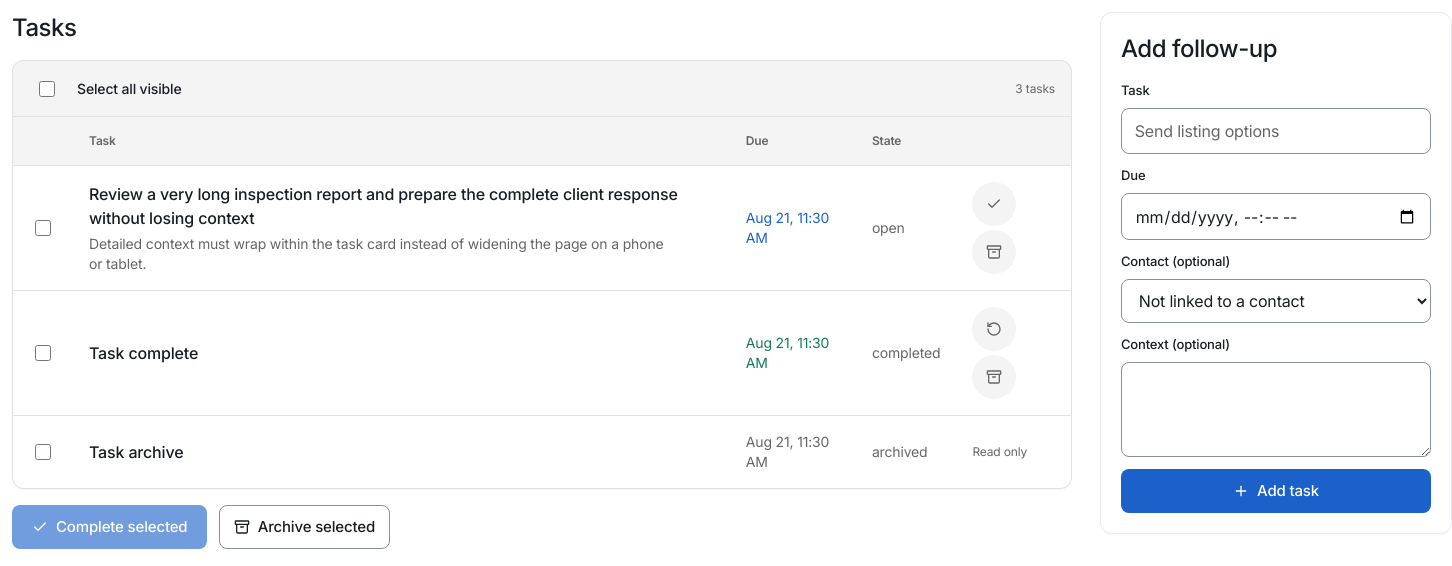
Test: ActivityWorkspace responsive task authority › keeps selection canonical and exposes a 44px checkbox hit-area contract
Click the checkbox named "Select Review a very long inspection": (43, 228) [35,220,51,236]
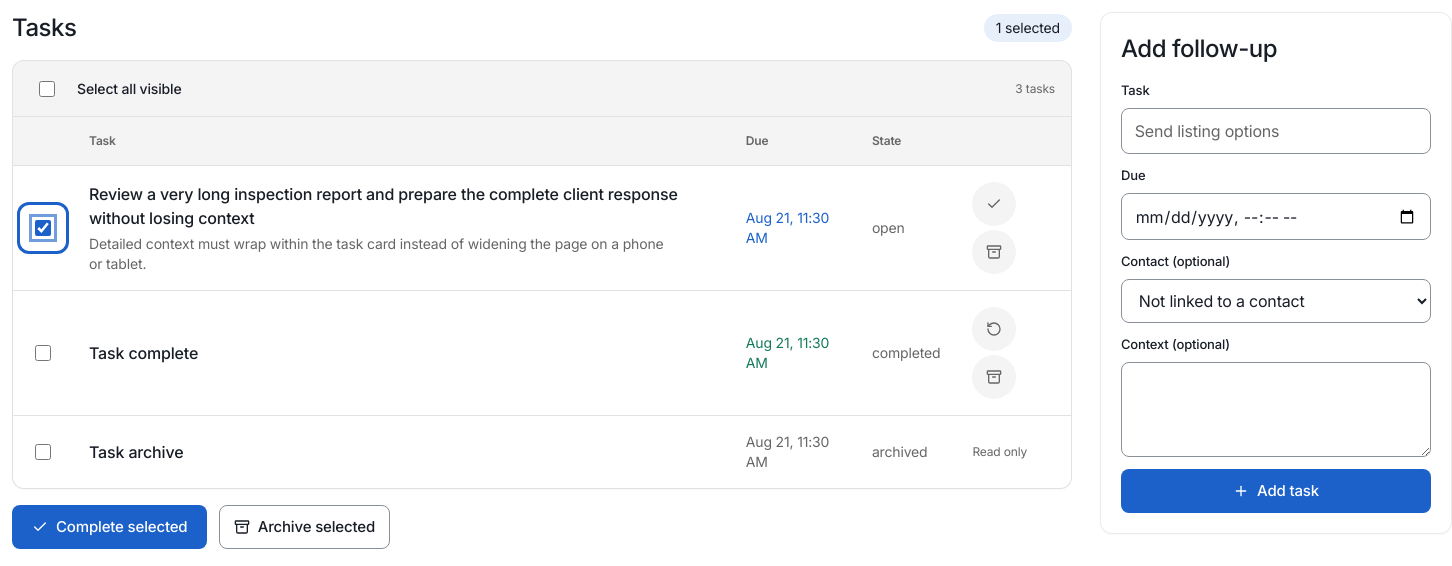
Result: the text "1 selected" is shown at [984,14,1072,42]
Click the checkbox named "Select all visible tasks": (47, 88) [39,80,55,96]
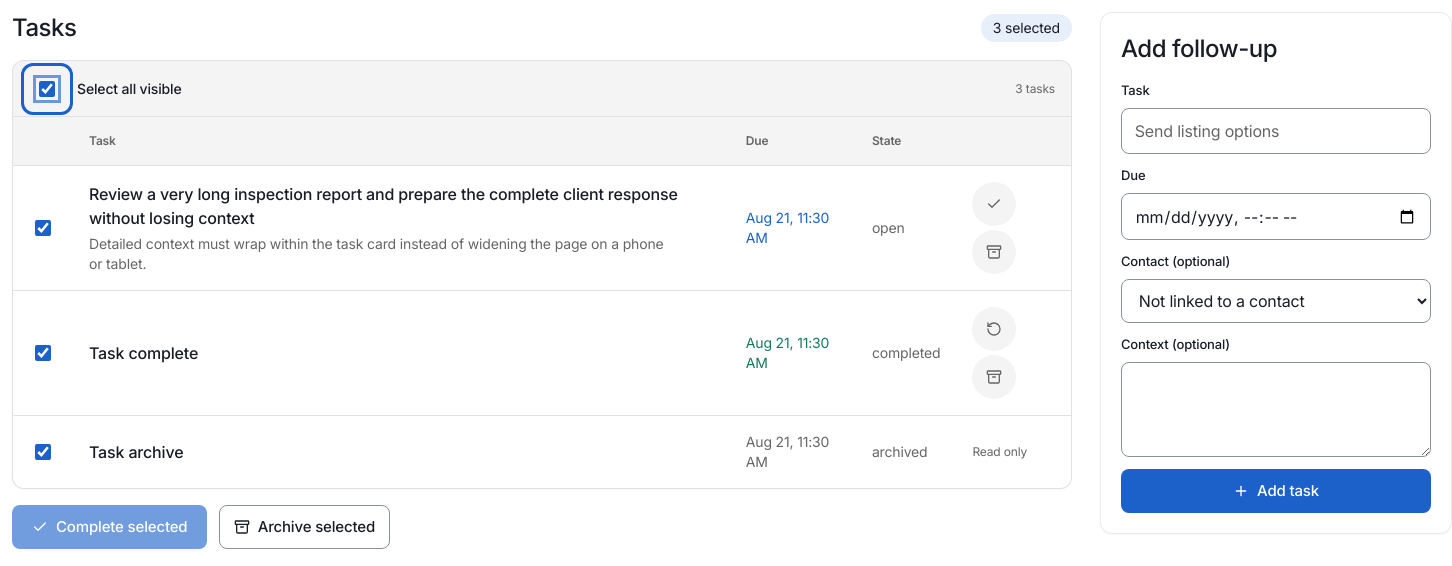
Result: the text "3 selected" is shown at [981,14,1072,42]
Result: the button "Complete selected" is disabled at [12,505,208,549]
